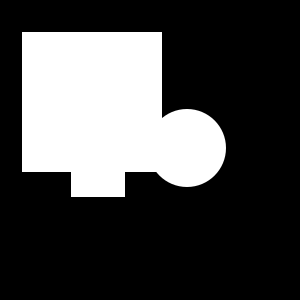circle: (22, 32, 162, 172), (71, 143, 125, 197)
rectangle: (148, 109, 226, 187)
